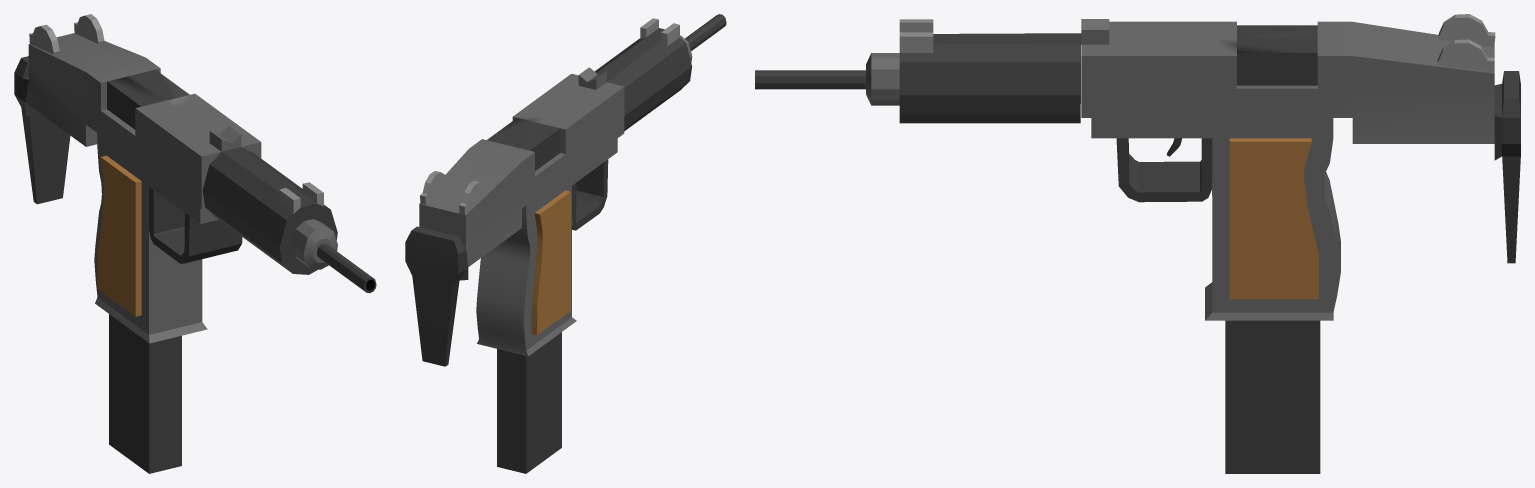
The model's file is Uzi.fbx.
3 views of the same model, side by side, from view 1: azimuth 30°, elevation 25°; view 2: azimuth 150°, elevation 25°; view 3: azimuth 270°, elevation 25° (orthographic). The views are drawn at different scales.
Visible parts, largest first — view 1: submachine_gun_2; view 2: submachine_gun_2; view 3: submachine_gun_2.
Part boxes in pixels (bbox=[...]): submachine_gun_2: bbox=[14, 14, 376, 473]; submachine_gun_2: bbox=[405, 14, 726, 473]; submachine_gun_2: bbox=[755, 14, 1520, 473].
Bounding box in the file's own units: 11.52 × 63.43 × 99.47.
1 material, 1 textured.
